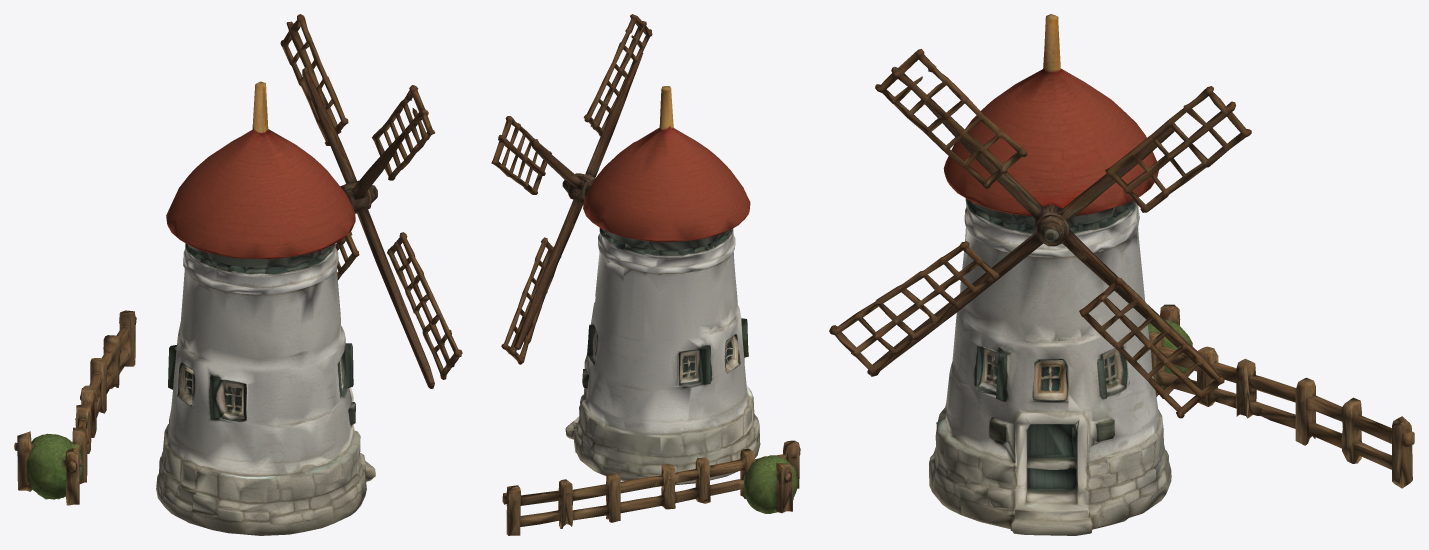
The model's file is env_windmill.glb.
The picture shows the model from 3 angles, left to right: view 1: azimuth 30°, elevation 25°; view 2: azimuth 150°, elevation 25°; view 3: azimuth 270°, elevation 25°; orthographic projection. The views are drawn at different scales.
Visible parts, largest first — view 1: tripo_node_afee8ecb-3808-485e-9eec-2ad7727878a8; view 2: tripo_node_afee8ecb-3808-485e-9eec-2ad7727878a8; view 3: tripo_node_afee8ecb-3808-485e-9eec-2ad7727878a8.
Boxes of the visible parts, x1,y1,x2,y2 form: tripo_node_afee8ecb-3808-485e-9eec-2ad7727878a8: [14, 14, 462, 535]; tripo_node_afee8ecb-3808-485e-9eec-2ad7727878a8: [491, 14, 800, 535]; tripo_node_afee8ecb-3808-485e-9eec-2ad7727878a8: [829, 14, 1414, 535].
Bounding box in the file's own units: 0.6931 × 0.9145 × 0.9992.
1 material, 1 textured.
